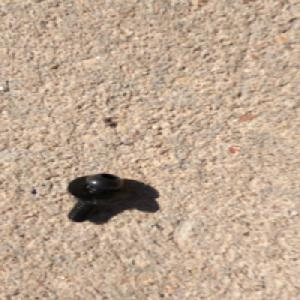BoltWasher: (65, 172, 133, 223)
